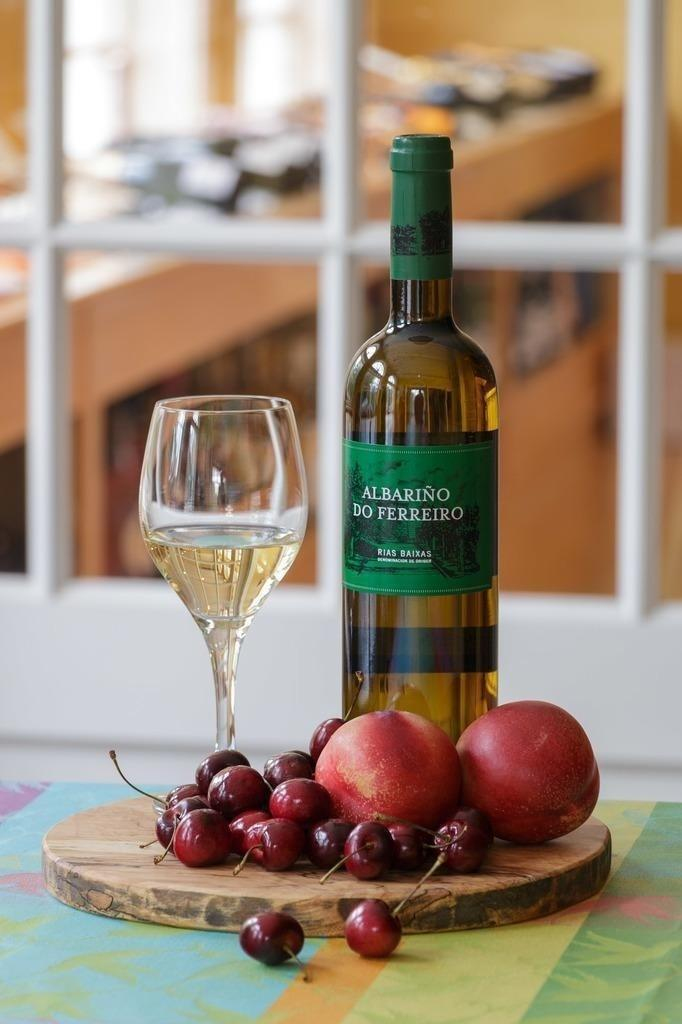bottle-glass: (337, 125, 502, 712)
glass-wine: (138, 391, 308, 750)
